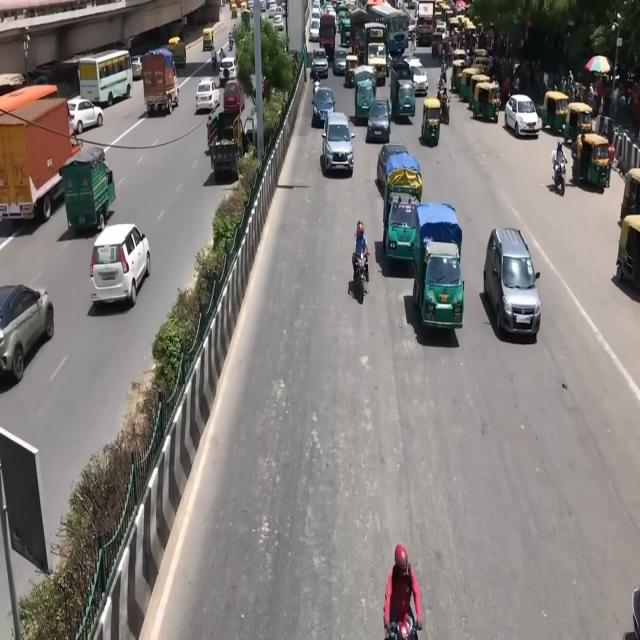auto: (412, 209, 464, 331), (614, 197, 639, 295), (572, 131, 612, 190), (390, 64, 416, 120), (563, 101, 593, 148), (421, 95, 443, 155), (472, 79, 502, 123), (542, 90, 569, 136), (460, 67, 484, 106), (450, 58, 468, 95), (344, 53, 360, 89), (202, 26, 214, 51)
bike-auto: (384, 544, 424, 634), (352, 215, 370, 315), (353, 220, 369, 282), (552, 156, 567, 195), (553, 142, 564, 174), (440, 95, 450, 125)
